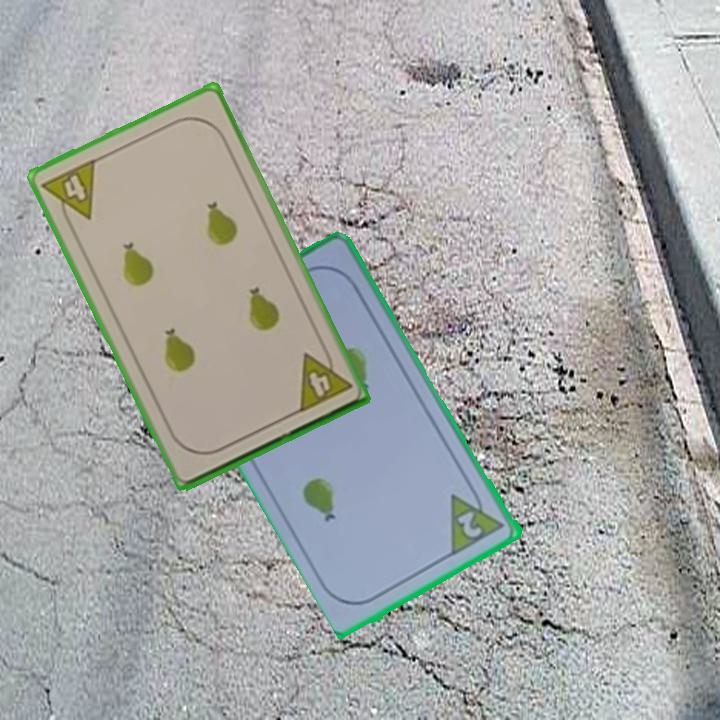2p: (447, 481, 509, 558)
4p: (38, 155, 99, 231), (294, 342, 355, 416)
